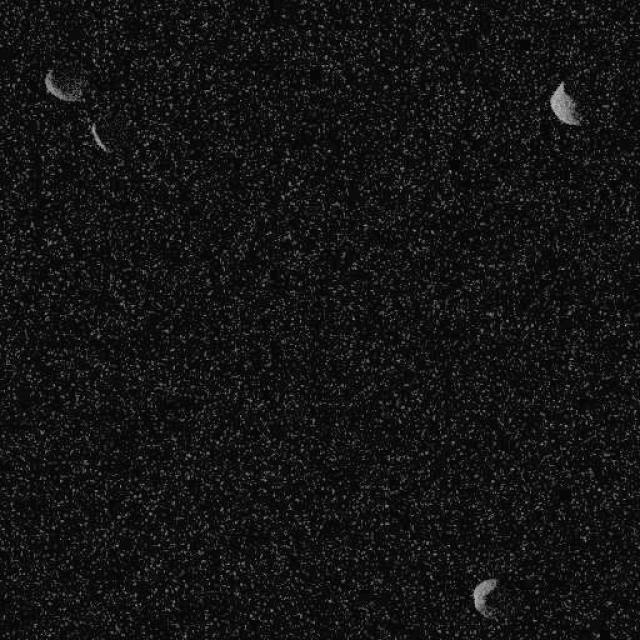D2: (548, 80, 582, 126), (43, 66, 85, 102), (471, 576, 499, 619), (88, 121, 110, 154)
